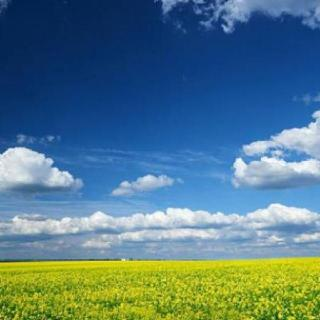Cumulus: (0, 0, 320, 258)
